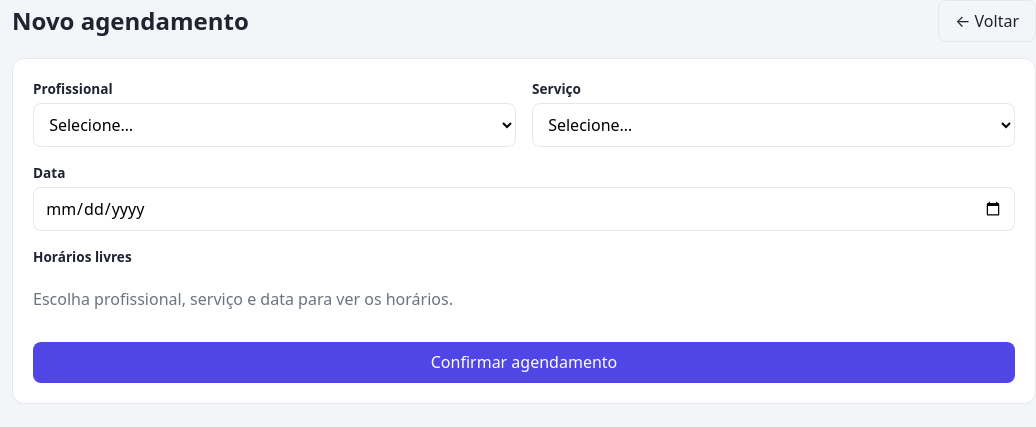
Test: NewAppointmentPage › blocks submit with a friendly message when no slot is picked
Select "Ana Souza · Cabeleireira" in the dropdown labelled "Profissional" at point(274, 125), box [33,103,516,147]
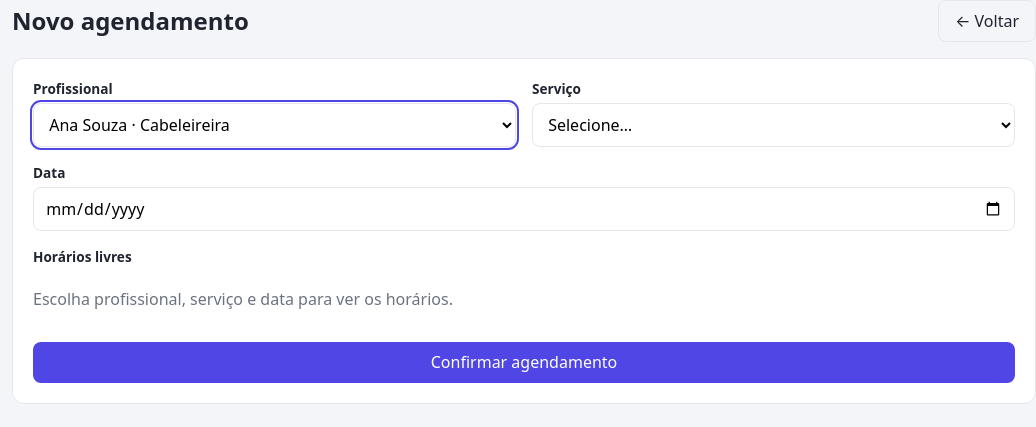
Select "Corte feminino · 60 min · R$ 80,00" in the dropdown labelled "Serviço" at point(774, 125), box [532,103,1015,147]
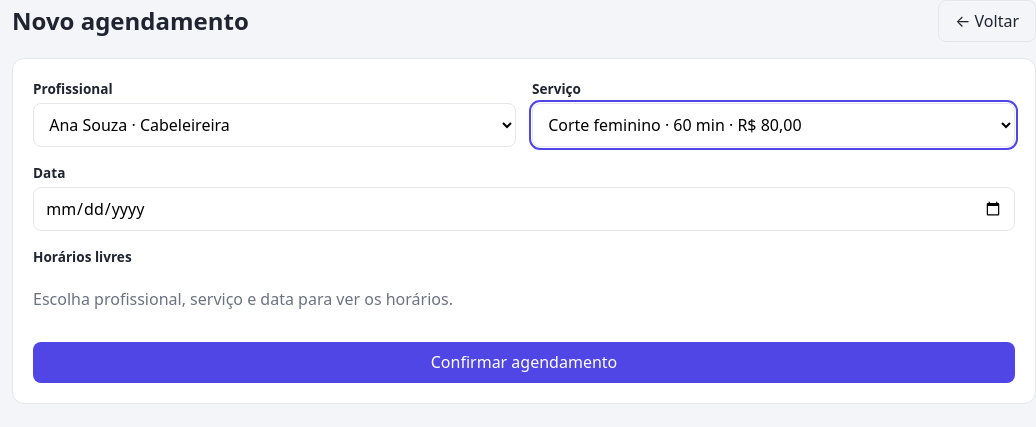
Type "2030-01-07" into the date field labelled "Data" at point(524, 209), box [33,187,1015,231]
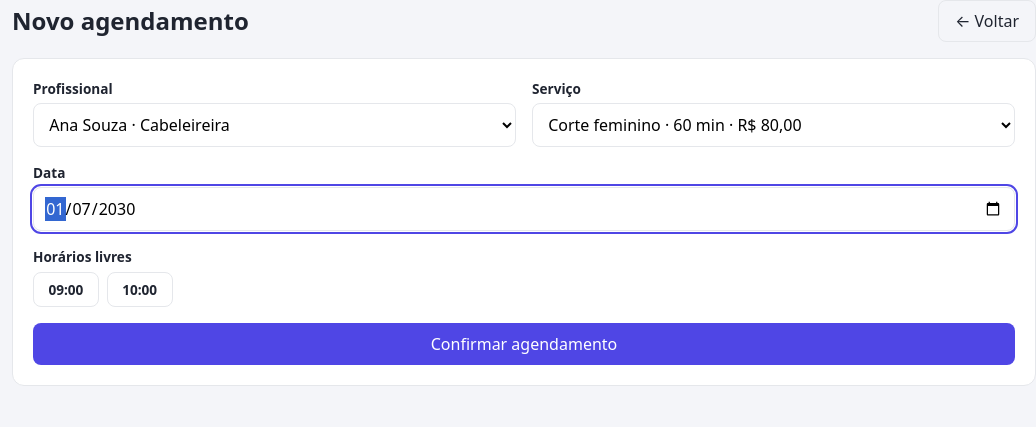
Now the radio button labelled "09:00" is shown, box [33,272,99,307]
Click the button "Confirmar agendamento" at point(524, 344), box [33,323,1015,364]
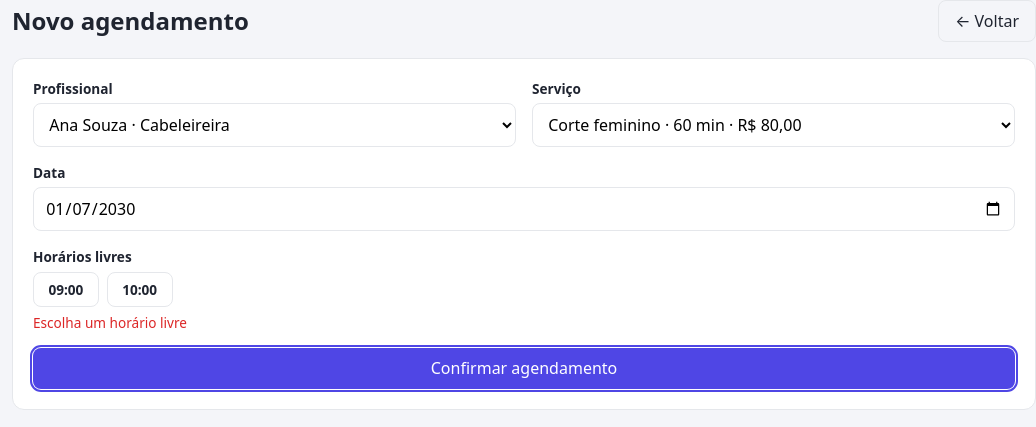
Now the text "Escolha um horário livre" is shown, box [33,312,187,332]
